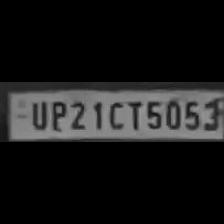0: (163, 97, 181, 130)
1: (88, 97, 106, 130)
2: (66, 98, 88, 132)
3: (202, 96, 220, 132)
5: (142, 97, 162, 130), (182, 98, 200, 132)
C: (105, 97, 125, 130)
P: (46, 98, 66, 132)
T: (124, 98, 142, 132)
U: (27, 97, 49, 130)
